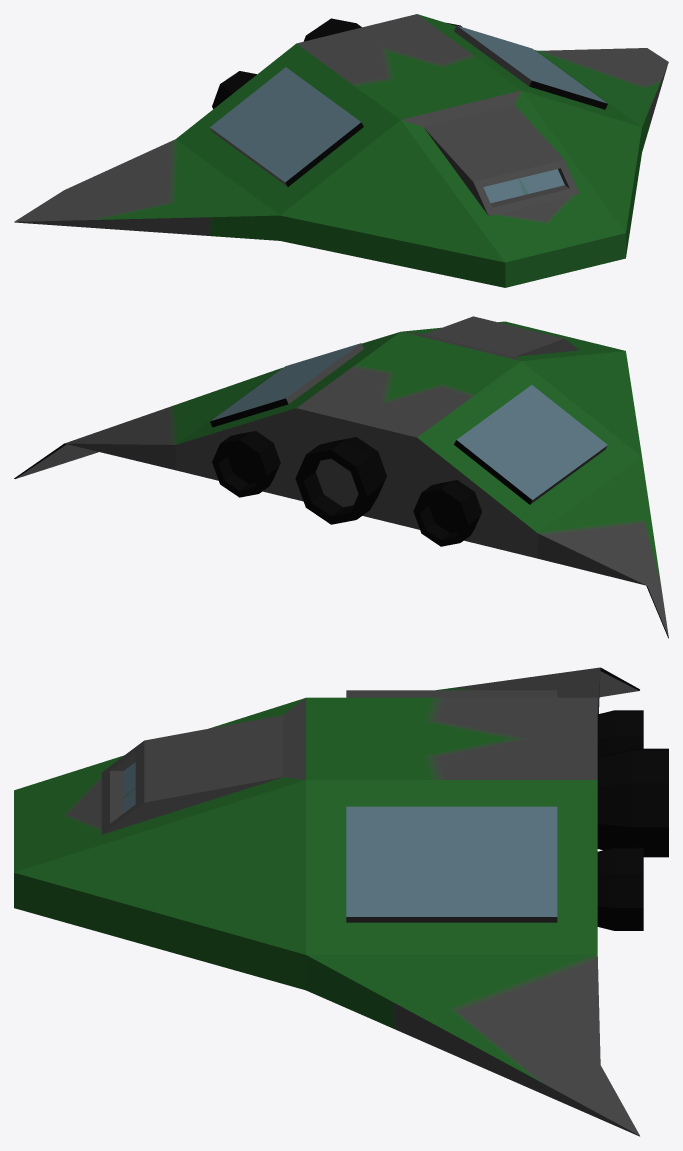
File: spaceship.obj
3 renders of one model, top to bottom at view 1: azimuth 30°, elevation 25°; view 2: azimuth 150°, elevation 25°; view 3: azimuth 270°, elevation 25°, orthographic. The views are drawn at different scales.
Parts seen in each view (by area): view 1: Plane_Plane.001; view 2: Plane_Plane.001; view 3: Plane_Plane.001.
Part boxes in pixels (x1=…): Plane_Plane.001: x1=14, y1=14, x2=668, y2=287; Plane_Plane.001: x1=14, y1=316, x2=668, y2=638; Plane_Plane.001: x1=14, y1=667, x2=668, y2=1136.
Bounding box in the file's own units: 3.62 × 0.6608 × 2.24.
Materials: 1 (1 with a texture image).
